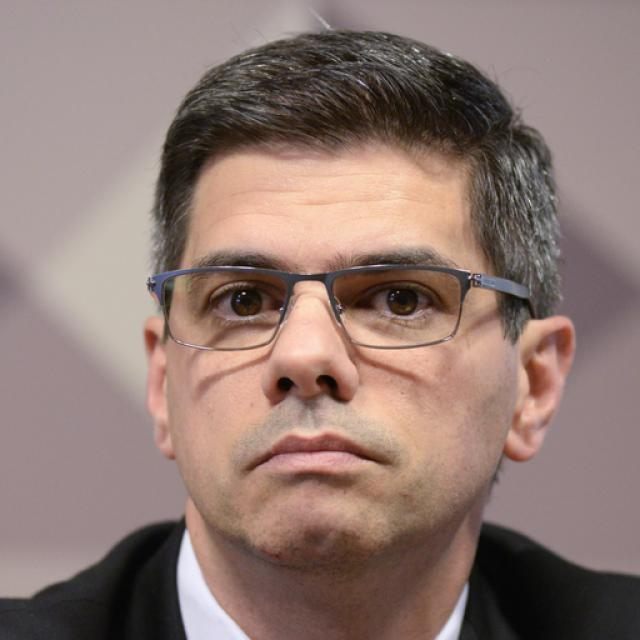neutral: (165, 138, 514, 562)
